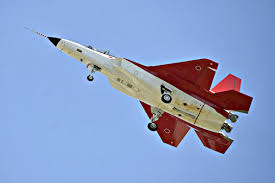fighter: (42, 33, 255, 158)
